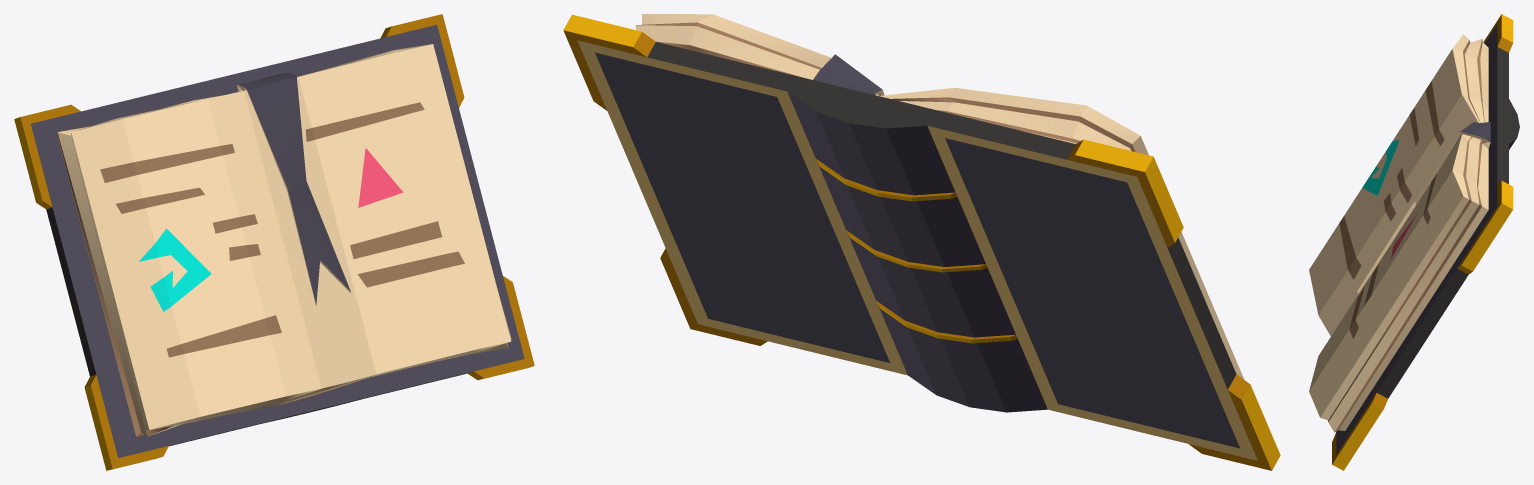
The model's file is salmonomicon.glb.
The picture shows the model from 3 angles, left to right: view 1: azimuth 30°, elevation 25°; view 2: azimuth 150°, elevation 25°; view 3: azimuth 270°, elevation 25°; orthographic projection. The views are drawn at different scales.
Parts seen in each view (by area): view 1: Book_05; view 2: Book_05; view 3: Book_05.
Part boxes in pixels (box(x1,y1,x2,y2)): Book_05: box(14, 14, 534, 470); Book_05: box(563, 14, 1280, 470); Book_05: box(1309, 14, 1519, 470).
Size of the model in its own units: 1.71 by 1.13 by 0.8039.
Materials: 1 (1 with a texture image).
